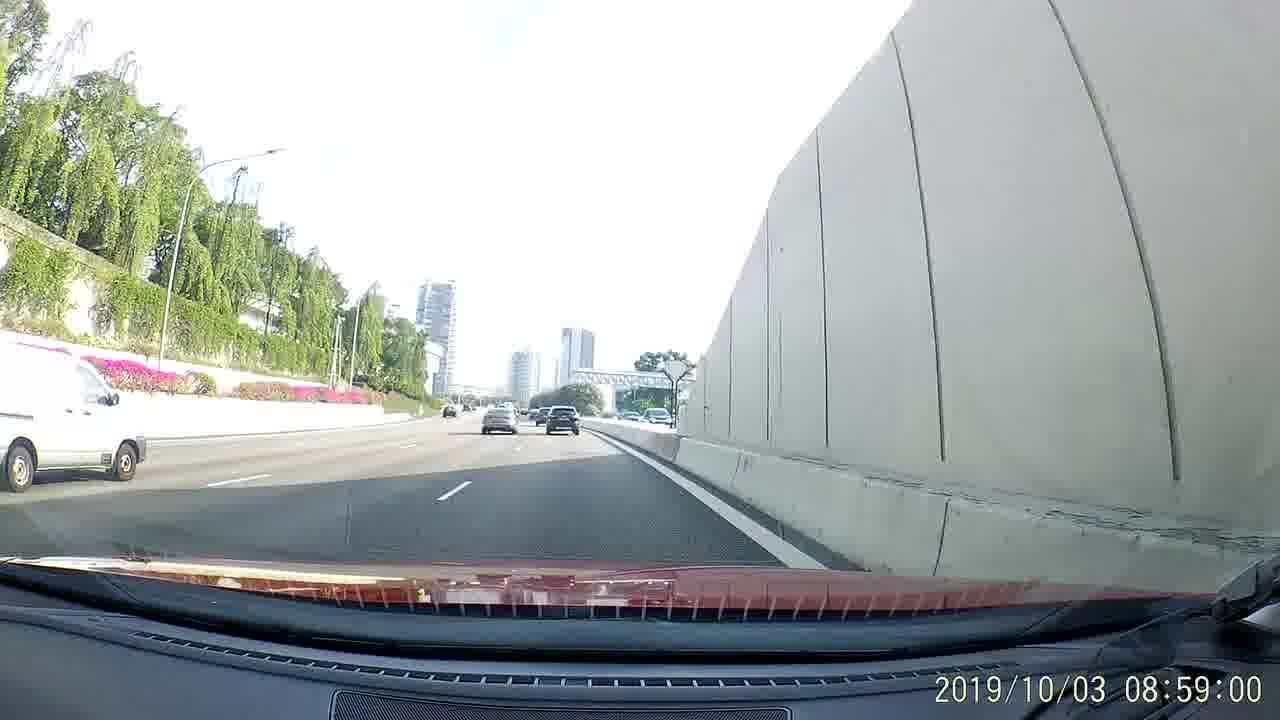car: (546, 403, 582, 436), (481, 405, 520, 432), (643, 407, 676, 427), (534, 406, 550, 424), (440, 404, 457, 416)
